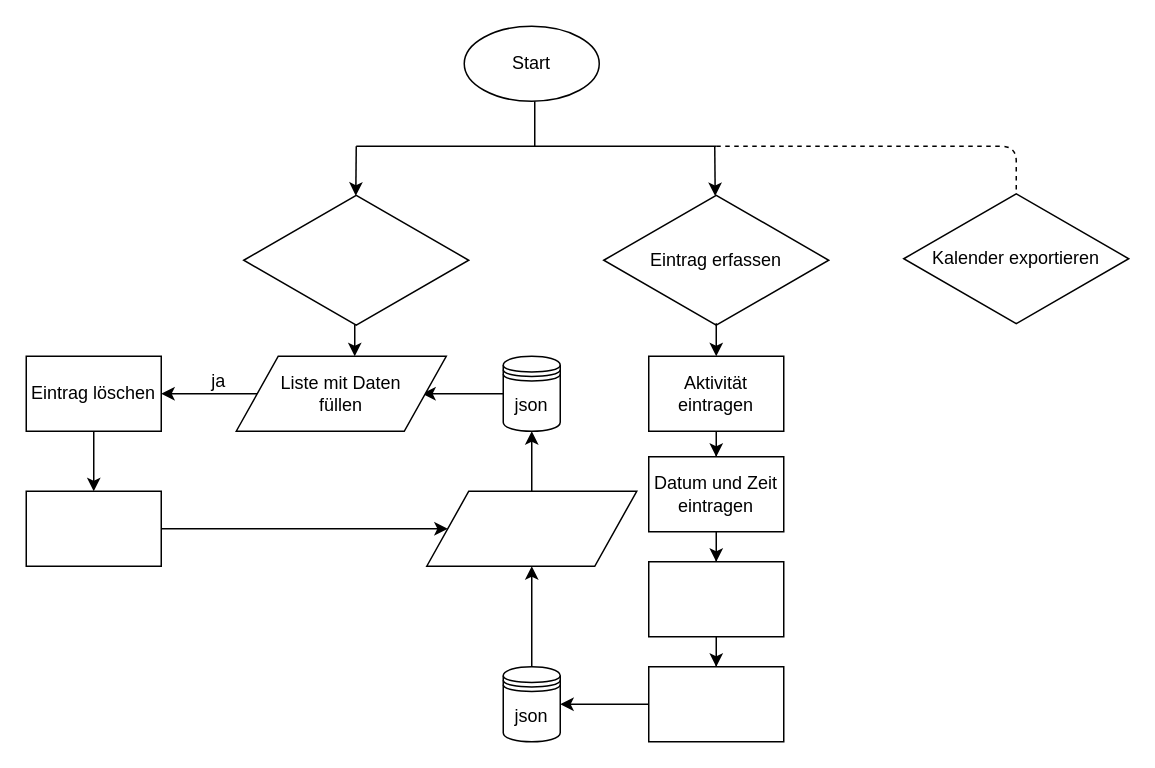
This 1155x768 diagram has some shape labels left out. The centre of each missing label's shape, as x and y in pixels:
altes dict mit neuem überschreiben: point 531,528
Eintrag auswählen: point 93,528
Speichern: point 715,703
Verantwortung und Teilnehmer erfassen: point 715,598
Übersicht: point 355,259
